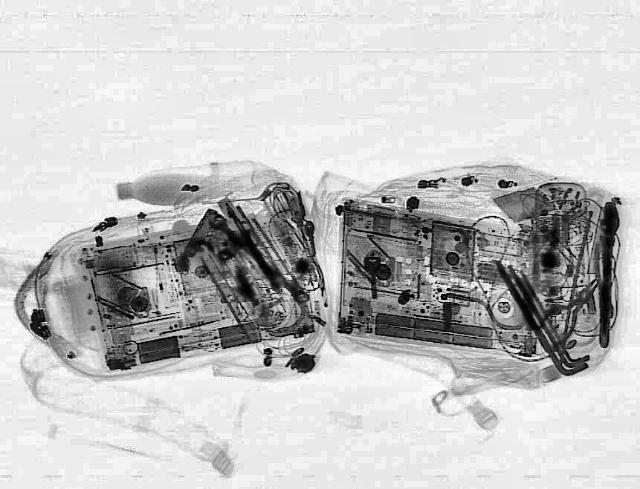Pliers: (524, 272, 616, 348)
Wrench: (205, 212, 313, 306)
